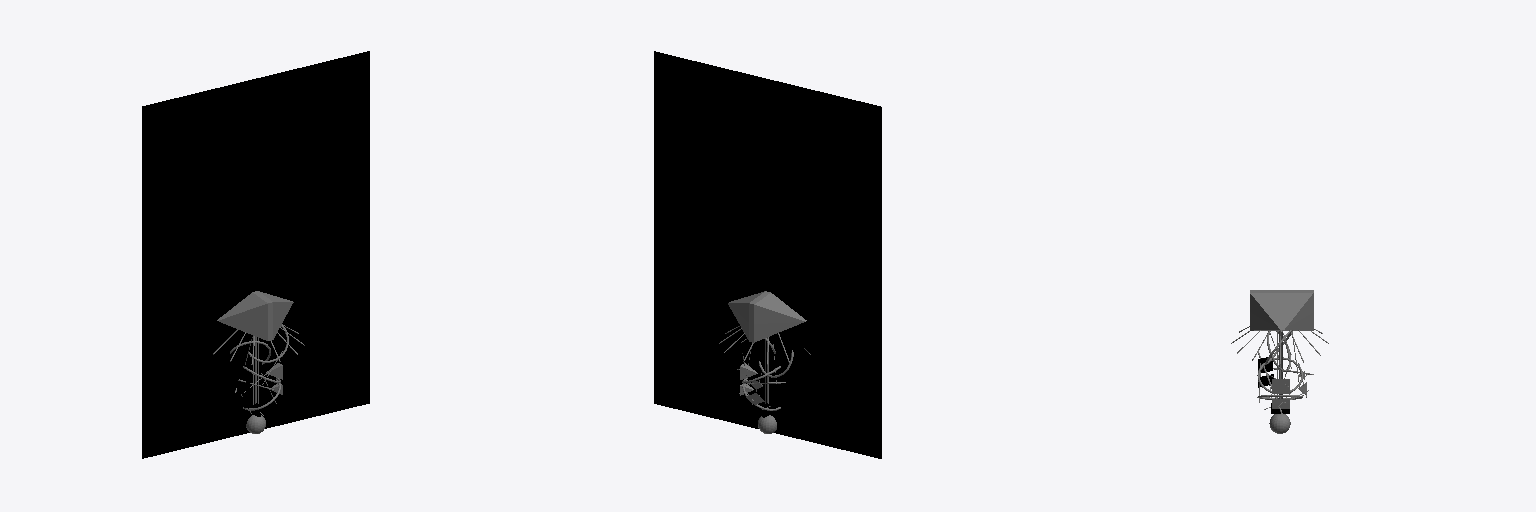
The model's file is Rune-main-color.obj.
The picture shows the model from 3 angles: view 1: azimuth 30°, elevation 25°; view 2: azimuth 150°, elevation 25°; view 3: azimuth 270°, elevation 25°; orthographic projection.
Visible parts, largest first — view 1: pPlane1, pCube5, pCube6; view 2: pPlane1, pCube5, pCube6; view 3: pCube6.
Boxes of the visible parts, box(x1,y1,x2,y2) form: pPlane1: box(142, 51, 369, 458); pCube5: box(217, 292, 270, 340); pCube6: box(255, 291, 293, 340); pPlane1: box(654, 51, 881, 458); pCube5: box(751, 292, 806, 342); pCube6: box(728, 291, 767, 341); pCube6: box(1250, 291, 1313, 330).
Size of the model in its own units: 6.54 by 9.74 by 2.44.